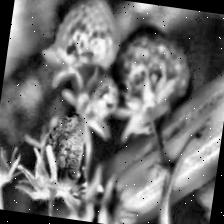Gray Mold: (10, 104, 98, 220)
